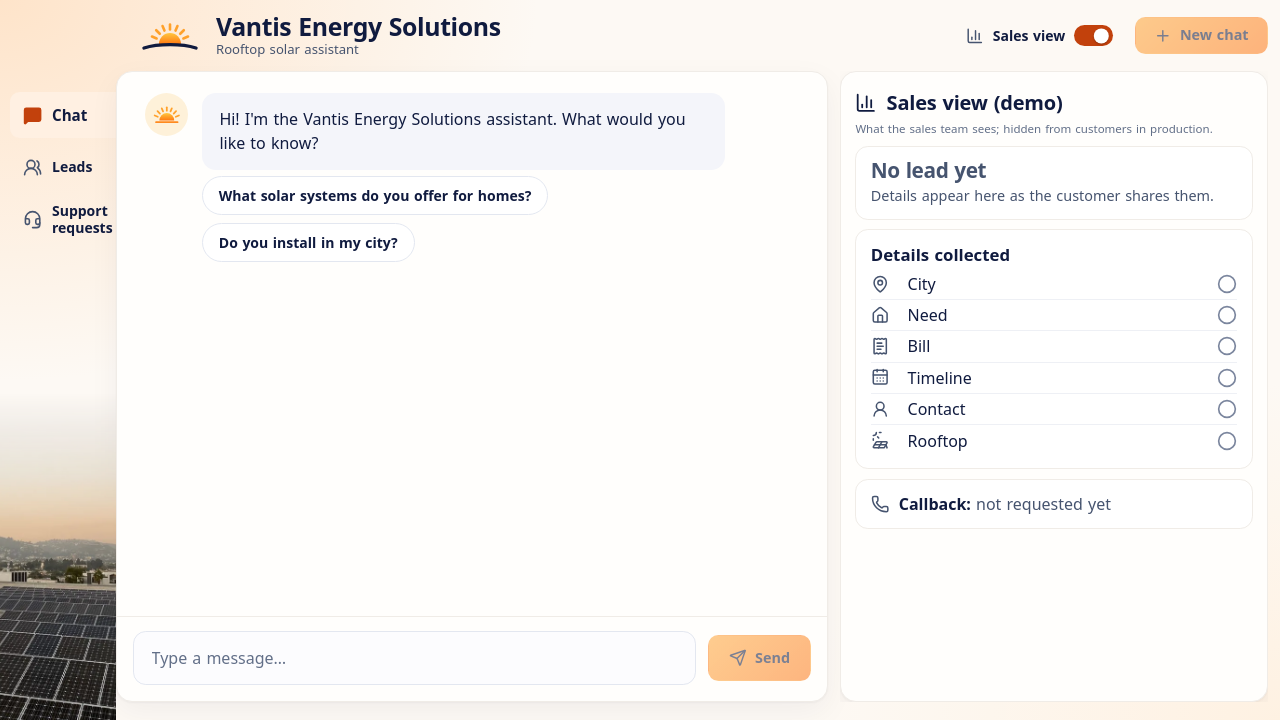
Test: errors › 422: shows the field's message and keeps the text
The width and height of the screenshot is (1280, 720).
expect the text "Hi! I'm the Vantis Energy Solutions assistant. What would you like to know?" is shown: met, box [219,107,707,155]
Type "Hello" into the text box named "Your message".
click(415, 658); type("Hello")  # box [152,643,678,673]
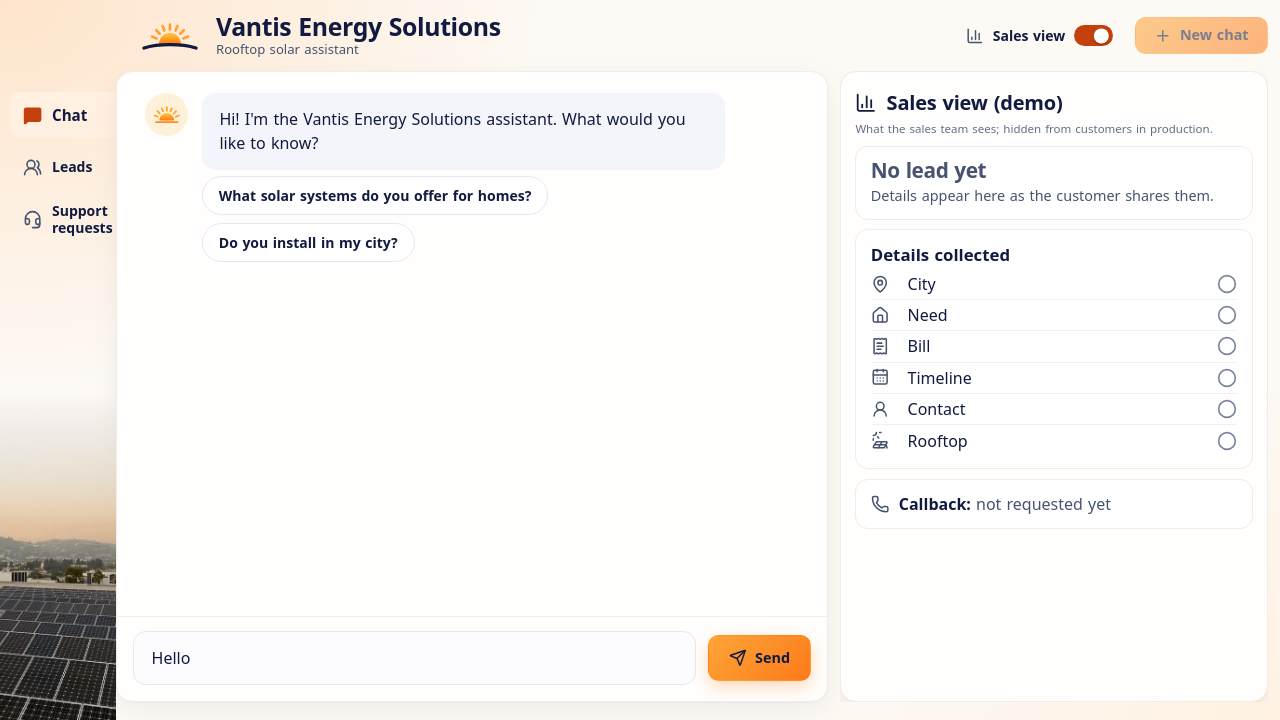
Click the button "Send".
click(760, 658)  # box [708,635,811,681]
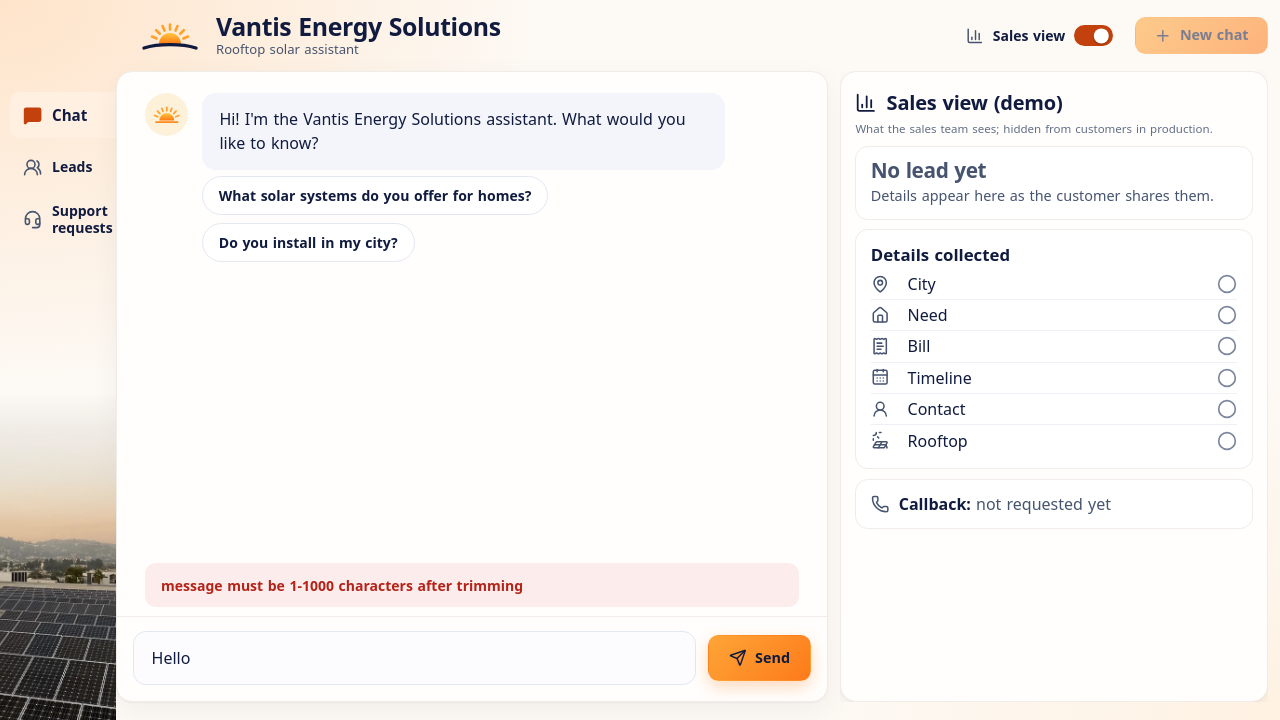
expect the message reads "message must be 1-1000 characters after trimming": met, box [161,576,523,595]
